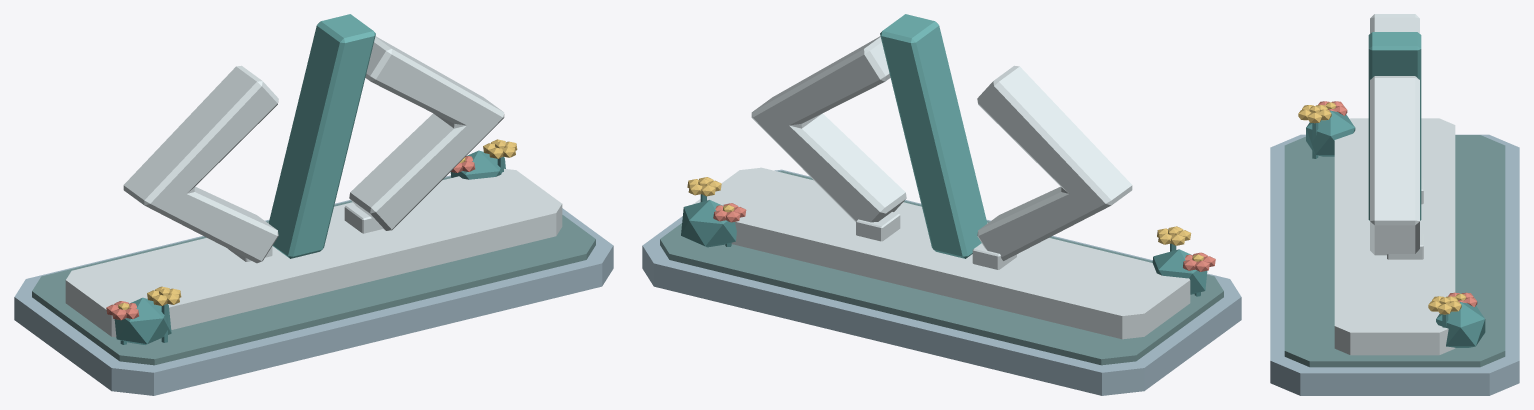
The model's file is campus_code_sculpture_v01.glb.
The picture shows the model from 3 angles, left to right: view 1: azimuth 30°, elevation 25°; view 2: azimuth 150°, elevation 25°; view 3: azimuth 270°, elevation 25°; orthographic projection. The views are drawn at different scales.
Parts seen in each view (by area): view 1: campus_code_sculpture; view 2: campus_code_sculpture; view 3: campus_code_sculpture.
Boxes of the visible parts, x1=… form: campus_code_sculpture: x1=14, y1=14, x2=613, y2=395; campus_code_sculpture: x1=642, y1=14, x2=1241, y2=395; campus_code_sculpture: x1=1270, y1=14, x2=1519, y2=395.
Size of the model in its own units: 4.3 by 2.13 by 1.9.
Materials: 1 (1 with a texture image).
